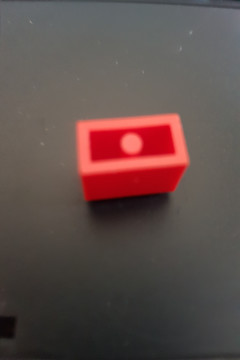1x2 red: (72, 112, 190, 201)
